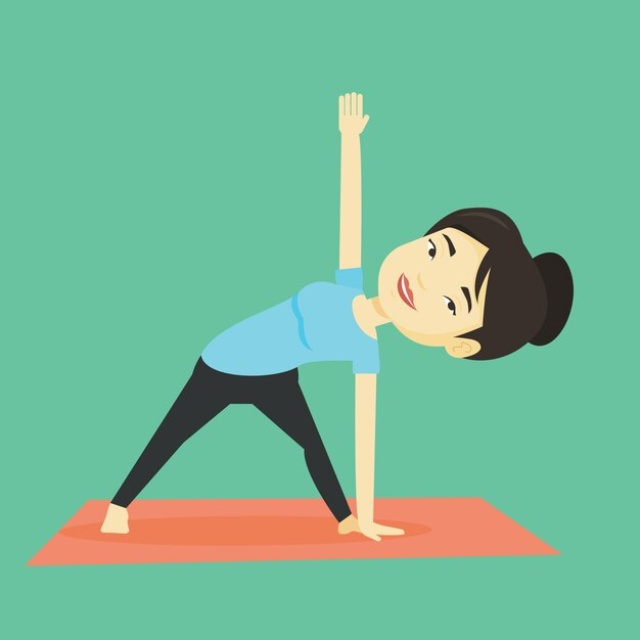Triangle_Pose: (76, 85, 579, 546)
